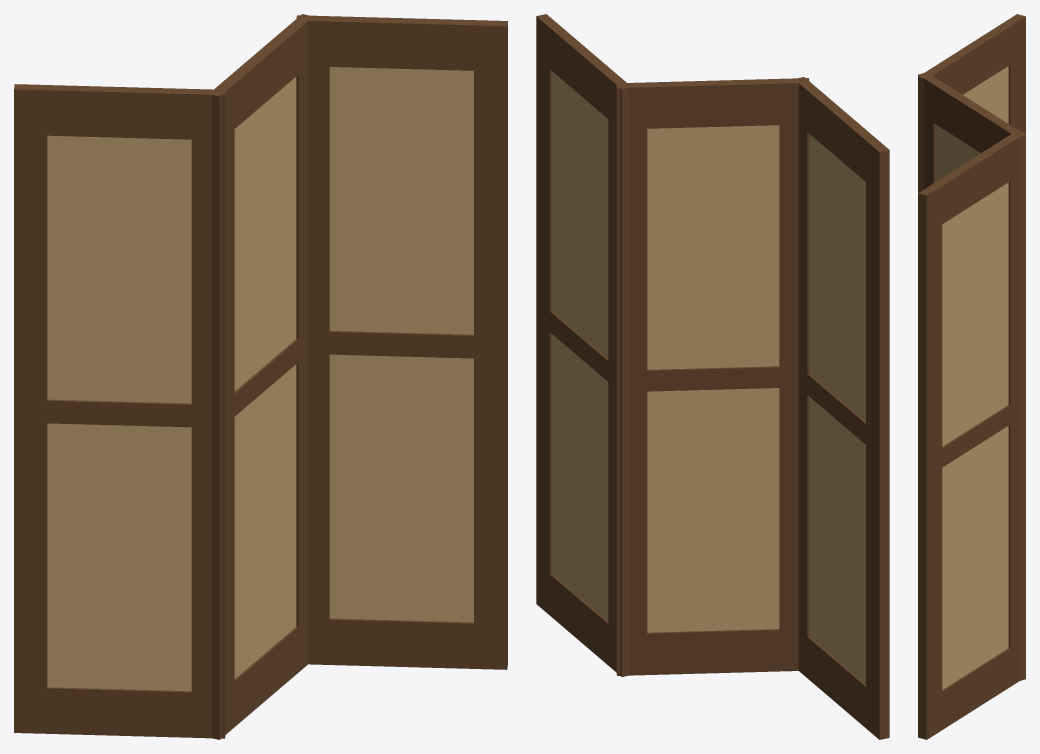
File: FN_Screen_Folding.glb
The picture shows the model from 3 angles, left to right: view 1: azimuth 30°, elevation 25°; view 2: azimuth 150°, elevation 25°; view 3: azimuth 270°, elevation 25°; orthographic projection. The views are drawn at different scales.
Parts seen in each view (by area): view 1: FN_Screen_Folding; view 2: FN_Screen_Folding; view 3: FN_Screen_Folding.
Boxes of the visible parts, left/top/right/bottom form: FN_Screen_Folding: left=14, top=14, right=507, bottom=739; FN_Screen_Folding: left=536, top=14, right=889, bottom=739; FN_Screen_Folding: left=918, top=14, right=1025, bottom=739.
Size of the model in its own units: 1.22 by 1.7 by 0.3058.
1 material, 1 textured.
